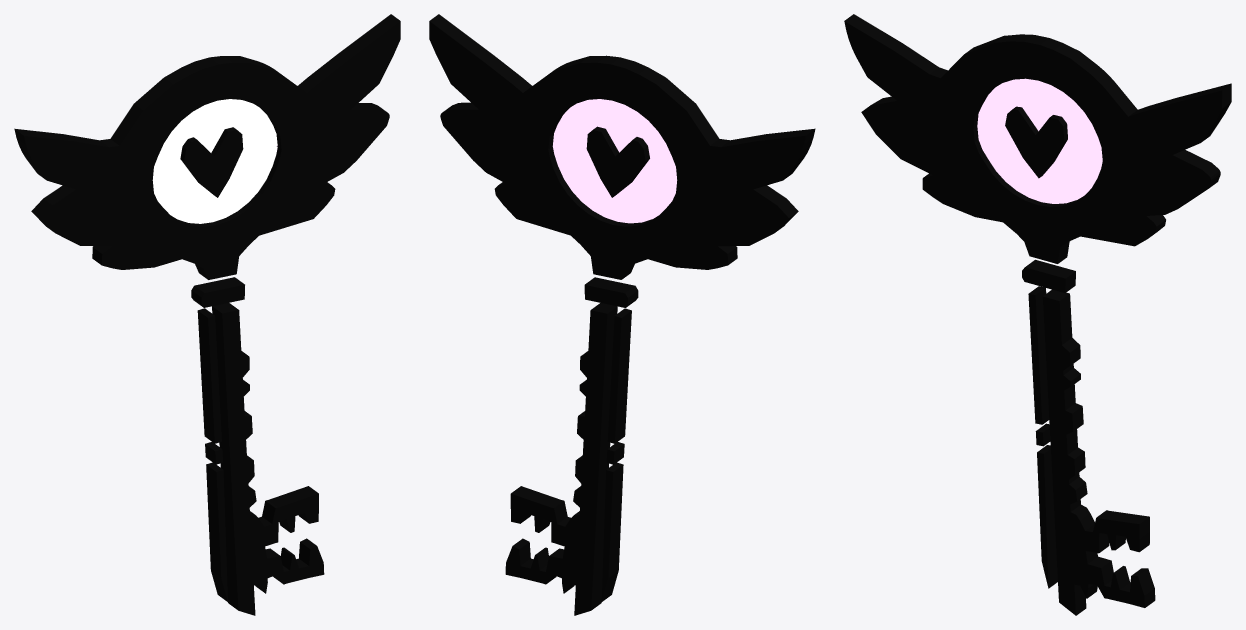
File: KEYFROMHAZBINHOTEL.fbx
The picture shows the model from 3 angles, left to right: view 1: azimuth 30°, elevation 25°; view 2: azimuth 150°, elevation 25°; view 3: azimuth 330°, elevation 25°; orthographic projection.
Visible parts, largest first — view 1: Cube.001, Cube; view 2: Cube.001, Cube; view 3: Cube.001, Cube.
Part boxes in pixels (x1,y1,x2,y2): Cube.001: (14,14,400,615); Cube: (152,99,277,223); Cube.001: (429,14,815,615); Cube: (552,99,677,223); Cube.001: (844,14,1231,615); Cube: (977,78,1102,203).
Bounding box in the file's own units: 2378 × 3379 × 113.
